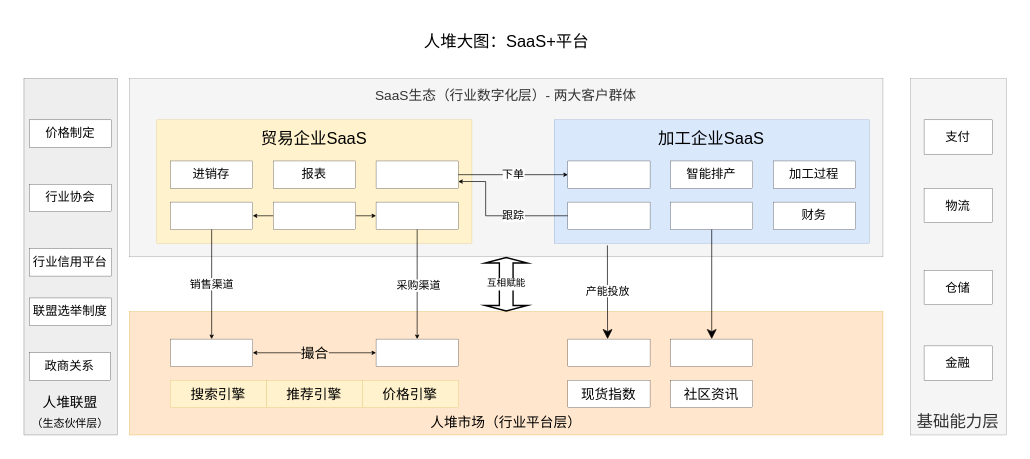
This 1030x459 diagram has some shape labels left out. Here are the shapes that lost their labels. From the top down, the centre of each, then its label:
At (x=416, y=174): "加工 海量加工厂".
At (x=608, y=174): "接单引擎".
At (x=211, y=215): "销售".
At (x=313, y=215): "CRM".
At (x=416, y=215): "采购".
At (x=608, y=215): "售后".
At (x=711, y=215): "原材采购".
At (x=211, y=352): "卖货".
At (x=416, y=352): "买货".
At (x=608, y=352): "产能预售".
At (x=711, y=352): "原材市场".
